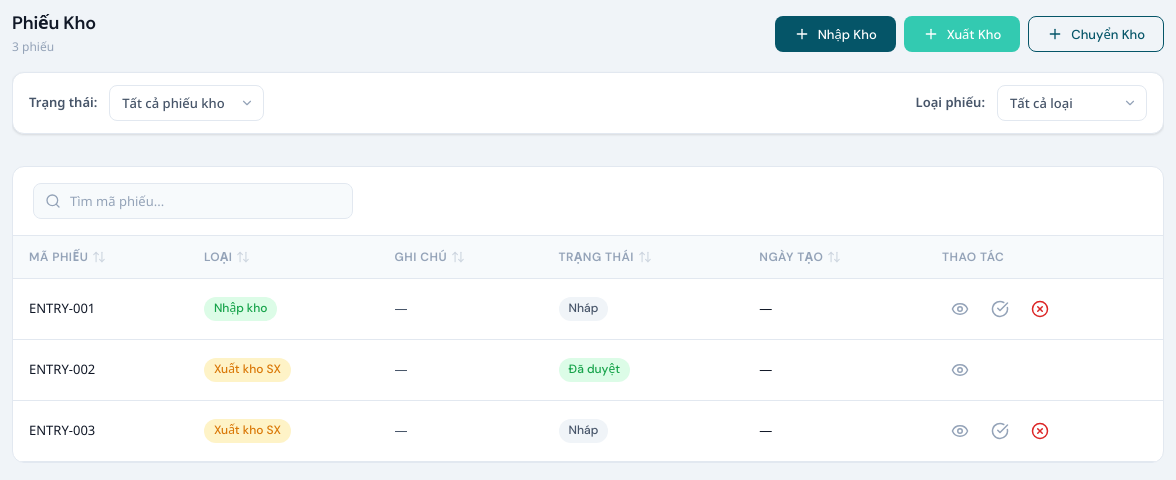
StockEntryList › switches to posted entries when tab is clicked
Expected: the text "ENTRY-001" is shown, x1=13 y1=278 x2=188 y2=340
Select "Đã duyệt (Ghi sổ)" in the dropdown named "Lọc trạng thái phiếu kho" at (187, 103), box x1=109 y1=85 x2=264 y2=121
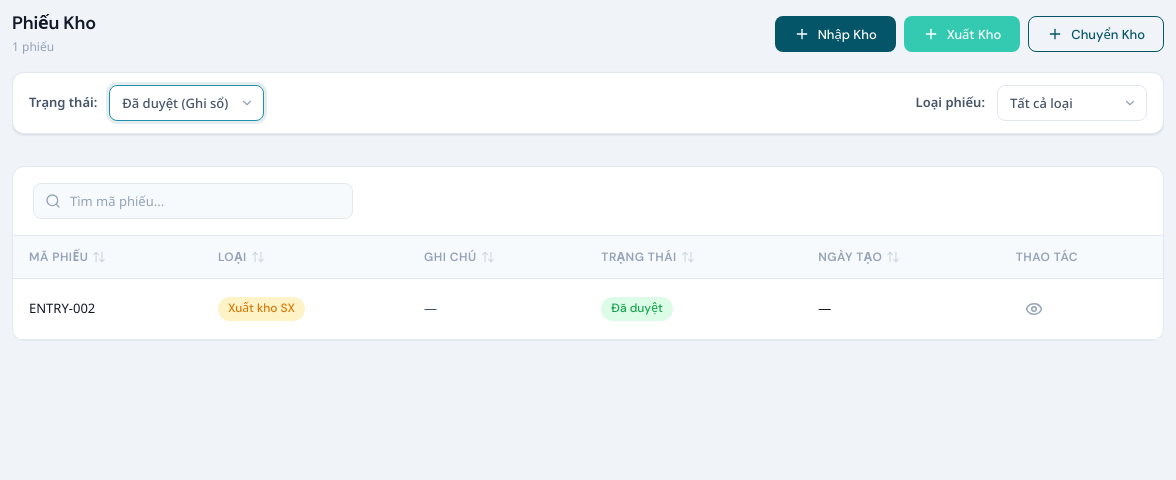
Expected: the text "ENTRY-001" is gone
Expected: the text "ENTRY-002" is shown, x1=13 y1=278 x2=202 y2=340
